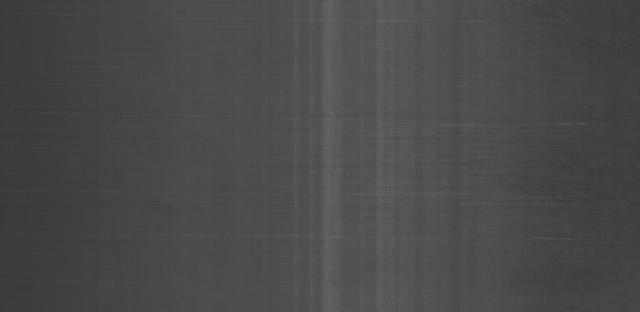waist_folding: (263, 15, 506, 296)
